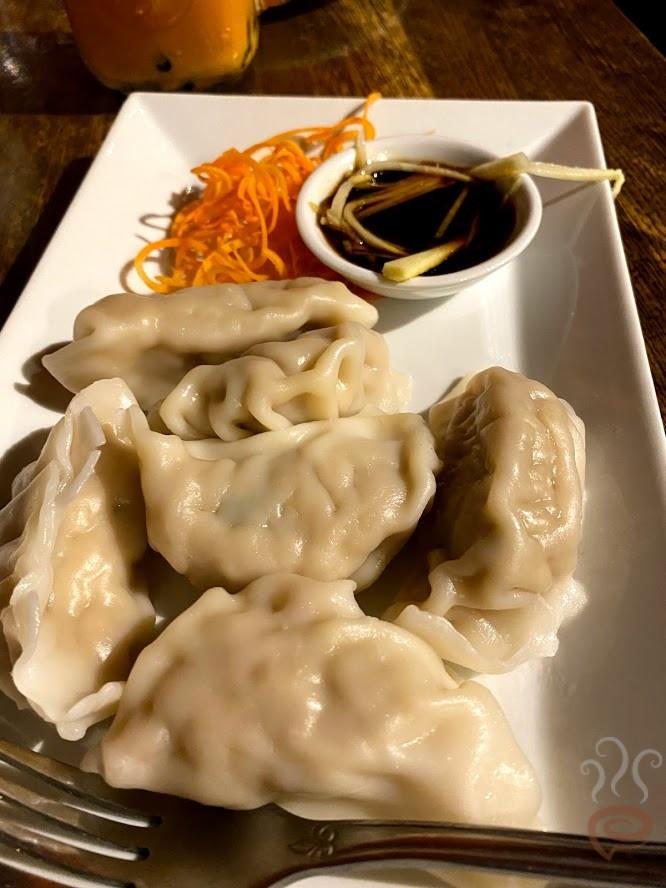momos: (102, 574, 541, 823), (395, 368, 586, 673), (132, 409, 439, 591), (2, 378, 156, 740), (43, 278, 378, 408), (158, 321, 409, 440)
